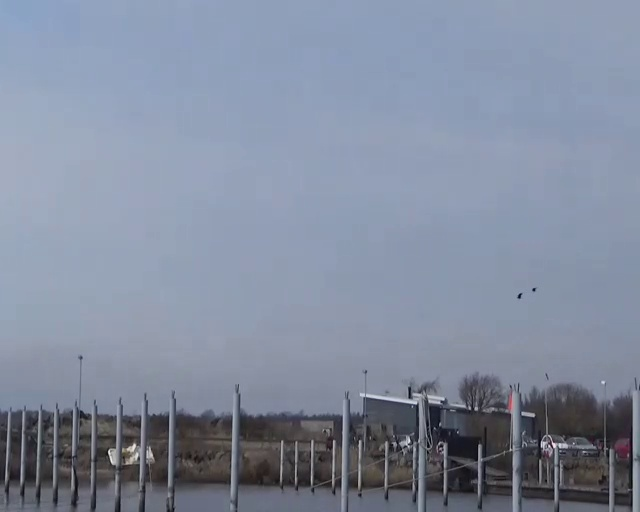BIRD: (516, 288, 533, 299)
